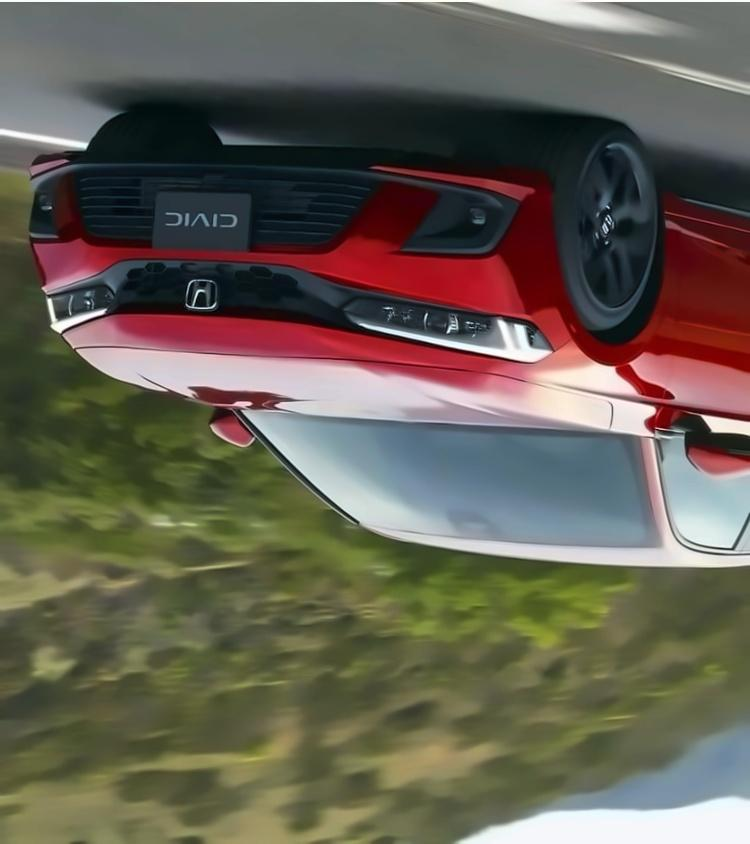Car hood: (69, 346, 620, 432)
Fender - -F-R-: (525, 197, 699, 461)
Front bumper: (17, 153, 572, 322)
Headlight - -L-: (19, 270, 125, 340)
Headlight - -R-: (332, 279, 563, 376)
Side mirror - -L-: (192, 389, 266, 454)
Side mirror - -R-: (664, 402, 750, 489)
